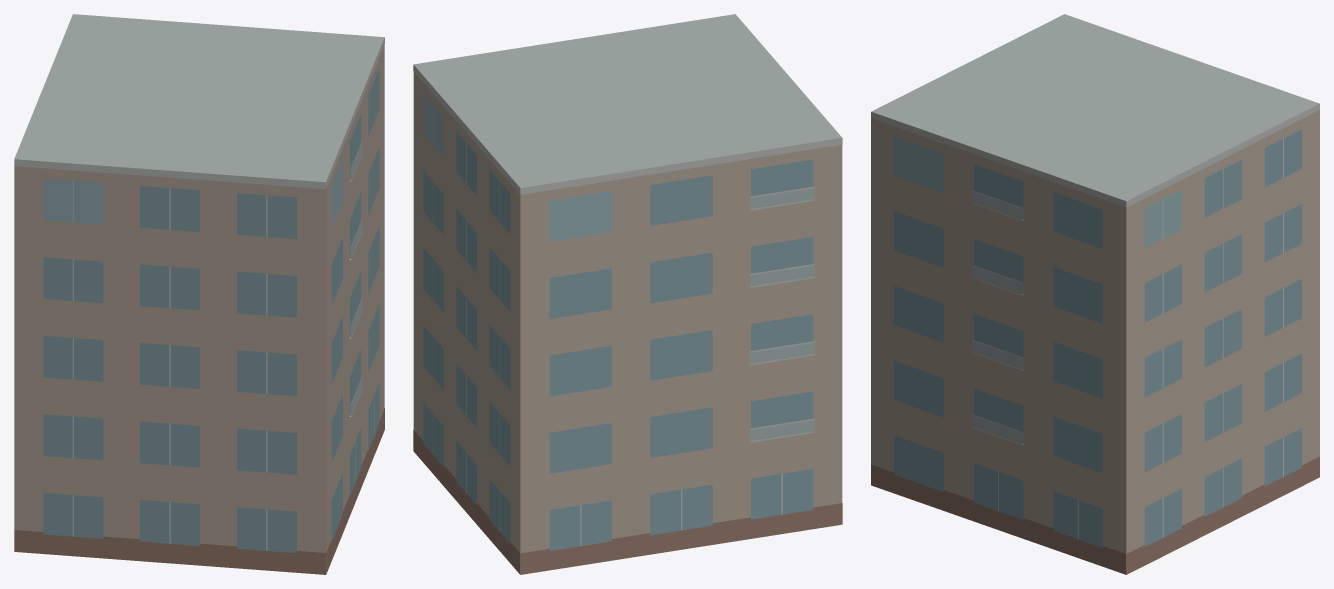
File: survey-upis-32979442.glb
3 renders of one model, left to right at view 1: azimuth 30°, elevation 25°; view 2: azimuth 150°, elevation 25°; view 3: azimuth 270°, elevation 25°, orthographic. The views are drawn at different scales.
Visible parts, largest first — view 1: survey-upis-32979442.tmp; view 2: survey-upis-32979442.tmp; view 3: survey-upis-32979442.tmp.
Part boxes in pixels (x1,y1,x2,y2): survey-upis-32979442.tmp: (14,14,384,574); survey-upis-32979442.tmp: (413,14,842,574); survey-upis-32979442.tmp: (871,14,1319,574).
Size of the model in its own units: 14.94 by 13.9 by 15.14.
